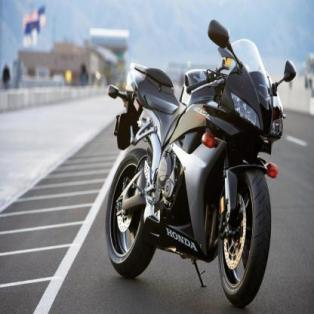Motocicleta: (99, 19, 299, 307)
